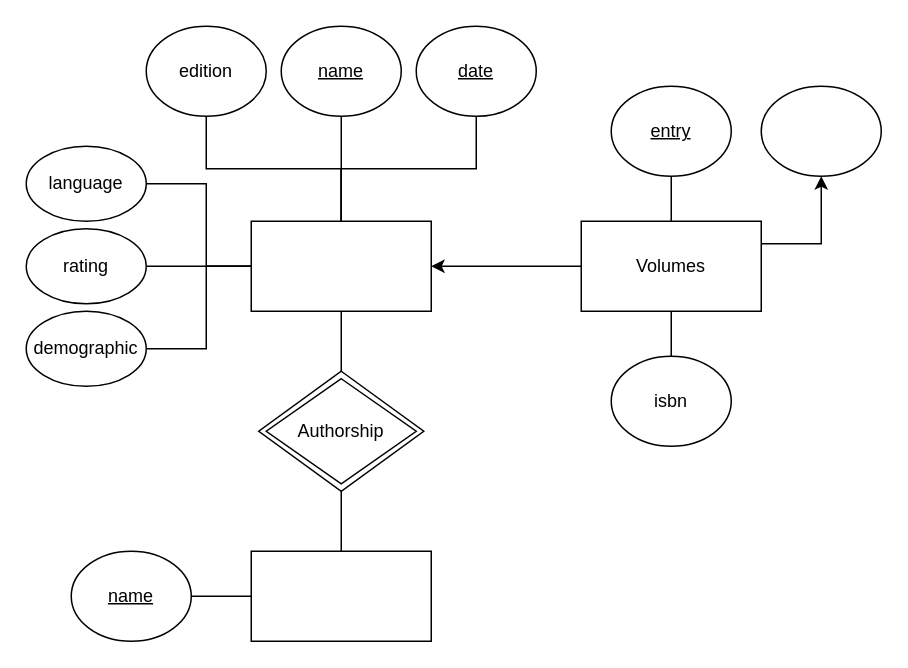
Image size: 908x668. Some labels were removed from this diagram. Each missing label, with the centre of its shape:
Authors: point 340,595
read status: point 820,130
Series: point 340,265
